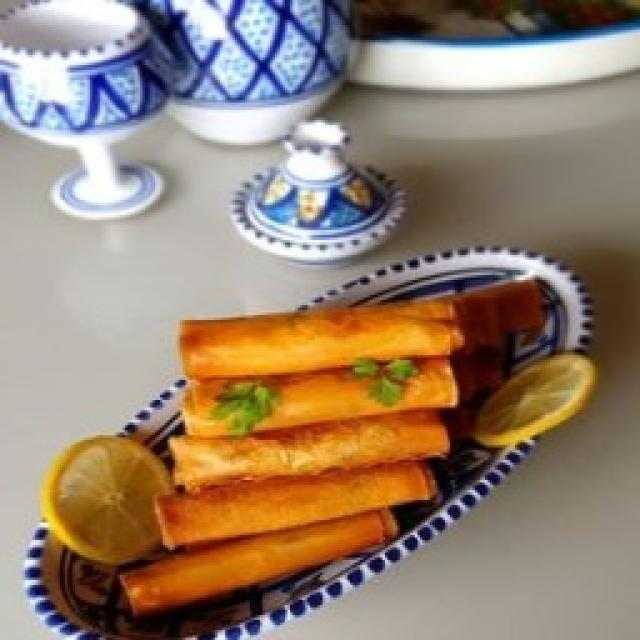Brik: (135, 280, 548, 608)
